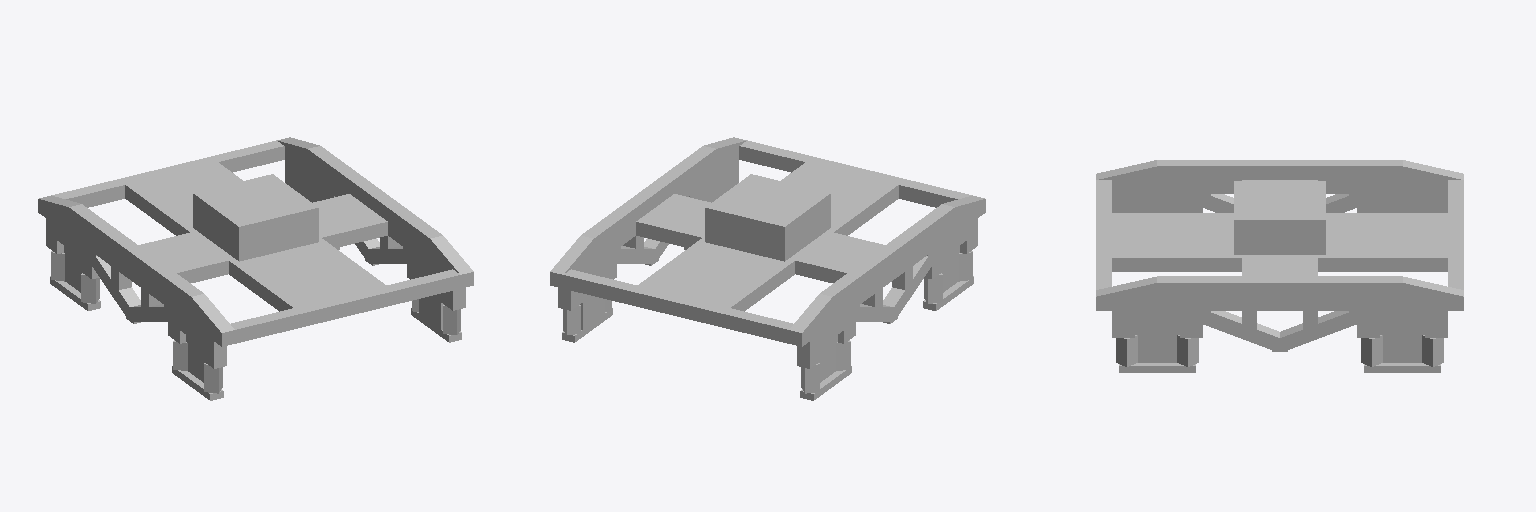
The model's file is y25_frame.obj.
The picture shows the model from 3 angles: view 1: azimuth 30°, elevation 25°; view 2: azimuth 150°, elevation 25°; view 3: azimuth 270°, elevation 25°; orthographic projection.
Parts seen in each view (by area): view 1: cube1, cube2, cube13, cube29, cube26, cube3, cube45, cube25, cube46, cube7, cube9, cube20 (+6 smaller); view 2: cube1, cube2, cube13, cube29, cube26, cube3, cube46, cube7, cube45, cube25, cube23, cube8 (+6 smaller); view 3: cube1, cube29, cube13, cube2, cube27, cube33, cube8, cube20, cube26, cube30, cube35, cube44 (+9 smaller).
Boxes of the visible parts, box(x1,y1,x2,y2) form: cube1: box(118, 157, 393, 327); cube2: box(193, 174, 318, 261); cube13: box(38, 195, 234, 346); cube29: box(277, 137, 473, 288); cube26: box(313, 194, 387, 247); cube3: box(139, 233, 228, 282); cube45: box(387, 269, 460, 304); cube25: box(231, 308, 300, 343); cube46: box(211, 140, 284, 172); cube7: box(52, 179, 124, 207); cube9: box(92, 256, 140, 316); cube20: box(164, 305, 226, 354); cube1: box(630, 157, 905, 327); cube2: box(705, 174, 830, 261); cube13: box(789, 195, 985, 346); cube29: box(550, 137, 746, 288); cube26: box(636, 194, 710, 247); cube3: box(795, 233, 884, 282); cube46: box(563, 269, 636, 304); cube7: box(723, 308, 792, 343); cube45: box(739, 140, 812, 172); cube25: box(899, 179, 971, 207); cube23: box(883, 256, 931, 316); cube8: box(797, 305, 859, 354); cube1: box(1096, 213, 1463, 271); cube29: box(1096, 276, 1463, 310); cube13: box(1096, 160, 1463, 193); cube2: box(1234, 181, 1325, 254); cube27: box(1135, 324, 1179, 362); cube33: box(1380, 324, 1424, 362); cube8: box(1349, 194, 1447, 207); cube20: box(1112, 194, 1210, 207); cube26: box(1242, 258, 1317, 275); cube30: box(1112, 311, 1210, 323); cube35: box(1349, 311, 1447, 323); cube44: box(1280, 311, 1356, 350).
Size of the model in its own units: 2.43 by 1 by 3.